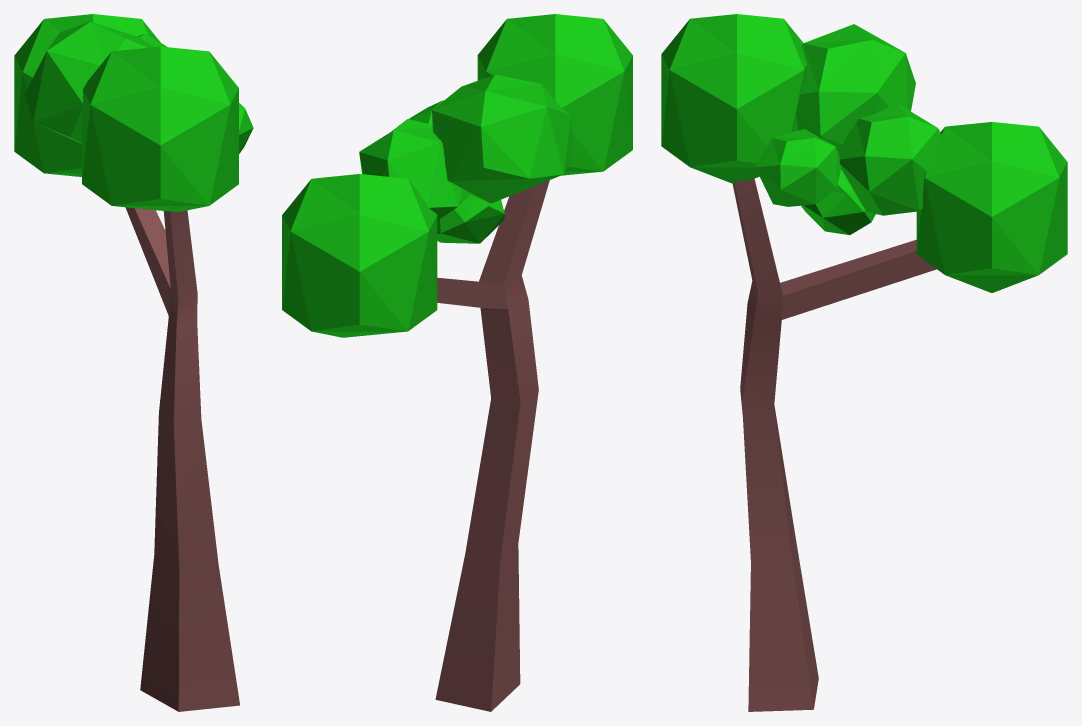
File: tree1.fbx
3 views of the same model, side by side, from view 1: azimuth 30°, elevation 25°; view 2: azimuth 150°, elevation 25°; view 3: azimuth 270°, elevation 25° (orthographic). The views are drawn at different scales.
Visible parts, largest first — view 1: Box003, GeoSphere004, GeoSphere005, GeoSphere003, GeoSphere007; view 2: Box003, GeoSphere003, GeoSphere004, GeoSphere005, GeoSphere006, GeoSphere008; view 3: Box003, GeoSphere003, GeoSphere004, GeoSphere005, GeoSphere006, GeoSphere007, GeoSphere008.
Part boxes in pixels (box(x1,y1,x2,y2)): Box003: box(125, 207, 239, 711); GeoSphere004: box(82, 46, 238, 211); GeoSphere005: box(24, 21, 153, 143); GeoSphere003: box(14, 14, 160, 176); GeoSphere007: box(239, 103, 253, 153); Box003: box(435, 180, 549, 711); GeoSphere003: box(282, 174, 437, 337); GeoSphere004: box(477, 14, 632, 175); GeoSphere005: box(432, 74, 572, 203); GeoSphere006: box(359, 119, 470, 220); GeoSphere008: box(437, 195, 504, 243); Box003: box(732, 178, 936, 711); GeoSphere003: box(916, 122, 1067, 292); GeoSphere004: box(661, 14, 807, 183); GeoSphere005: box(796, 24, 915, 153); GeoSphere006: box(838, 103, 944, 215); GeoSphere007: box(755, 129, 841, 206); GeoSphere008: box(801, 169, 875, 235).
Size of the model in its own units: 74.92 by 229 by 128.
